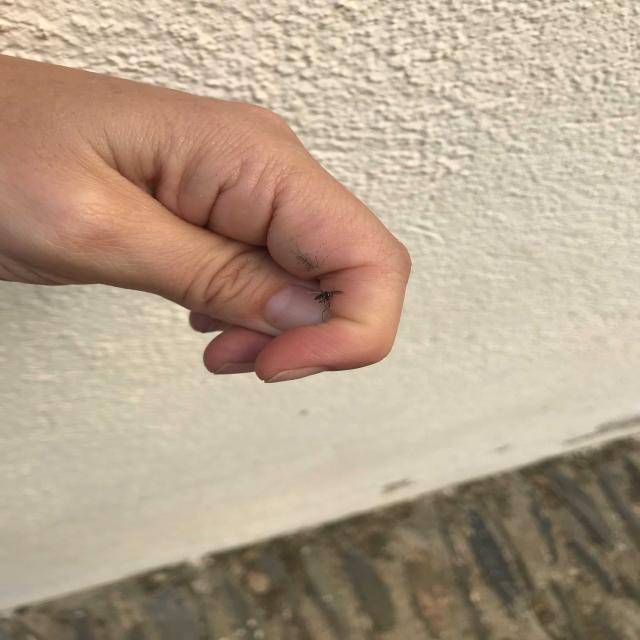albopictus: (287, 266, 349, 316)
